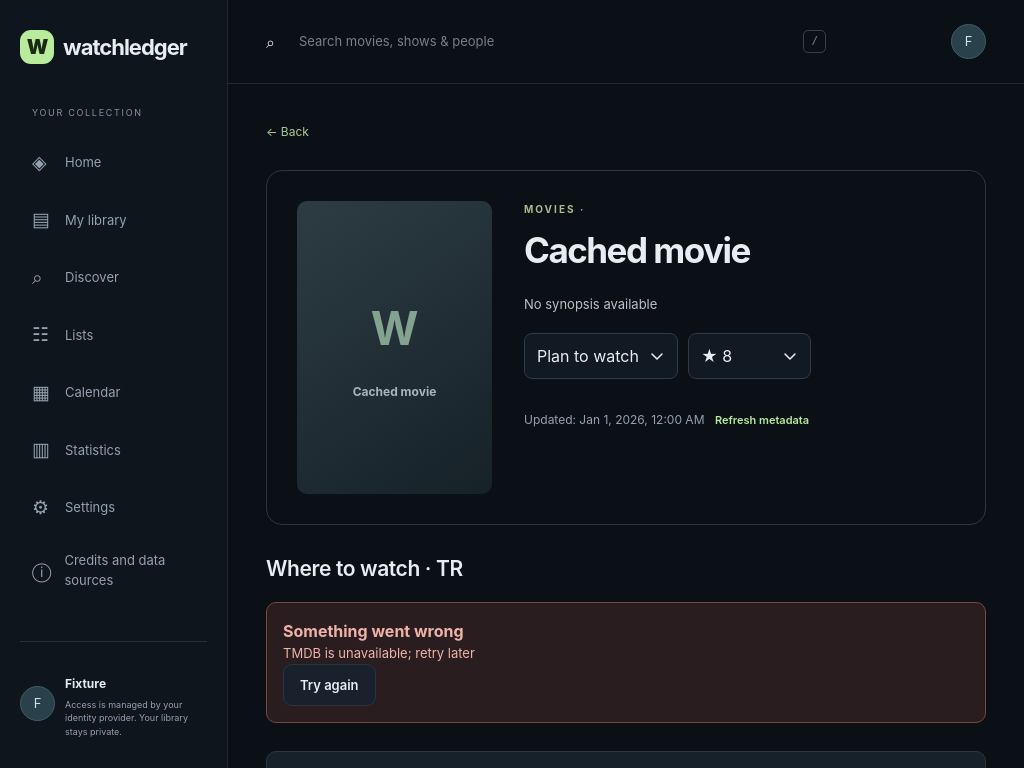
it: availability can retry independently while cached detail and private rating remain usable
Check: the heading "Cached movie" is shown, box 524,228 -> 750,270
Check: the dropdown named "Your rating" shows "★ 8", box 688,333 -> 811,379
Click the button "Try again" at (329, 685), box 283,664 -> 376,706
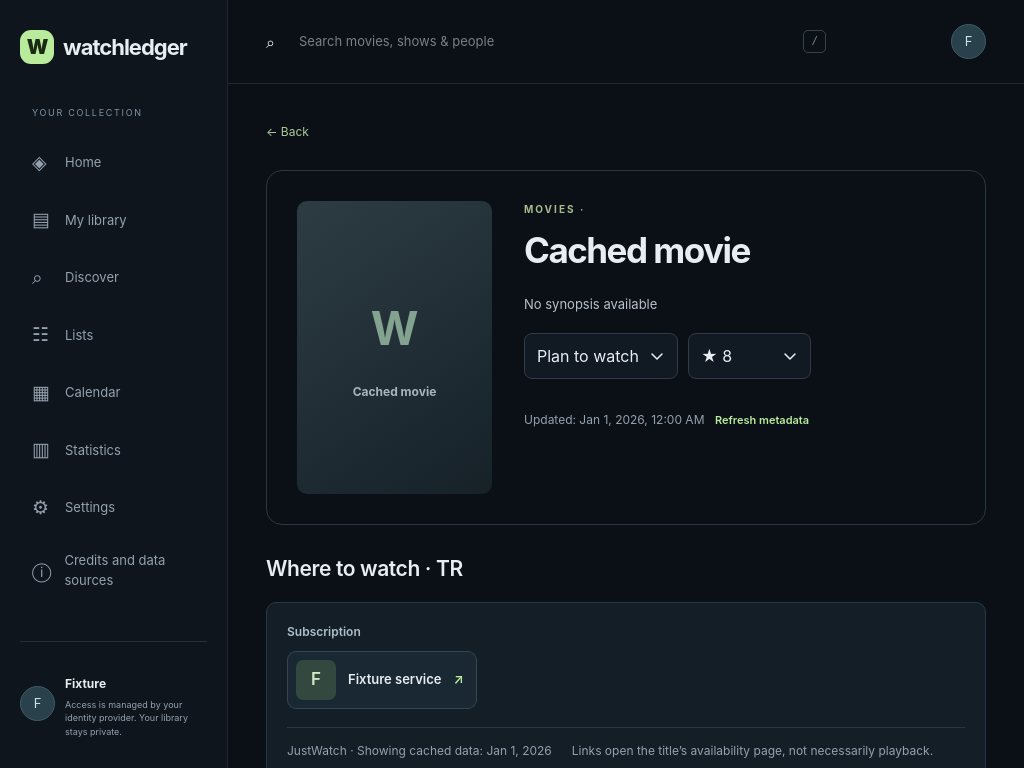
Check: the link "F Fixture service ↗" is shown, box 287,651 -> 477,709
Check: the text "JustWatch · Showing cached data: Jan 1, 2026" is shown, box 287,742 -> 552,760
Check: the text "Links open the title’s availability page, not necessarily playback." is shown, box 572,742 -> 933,760
